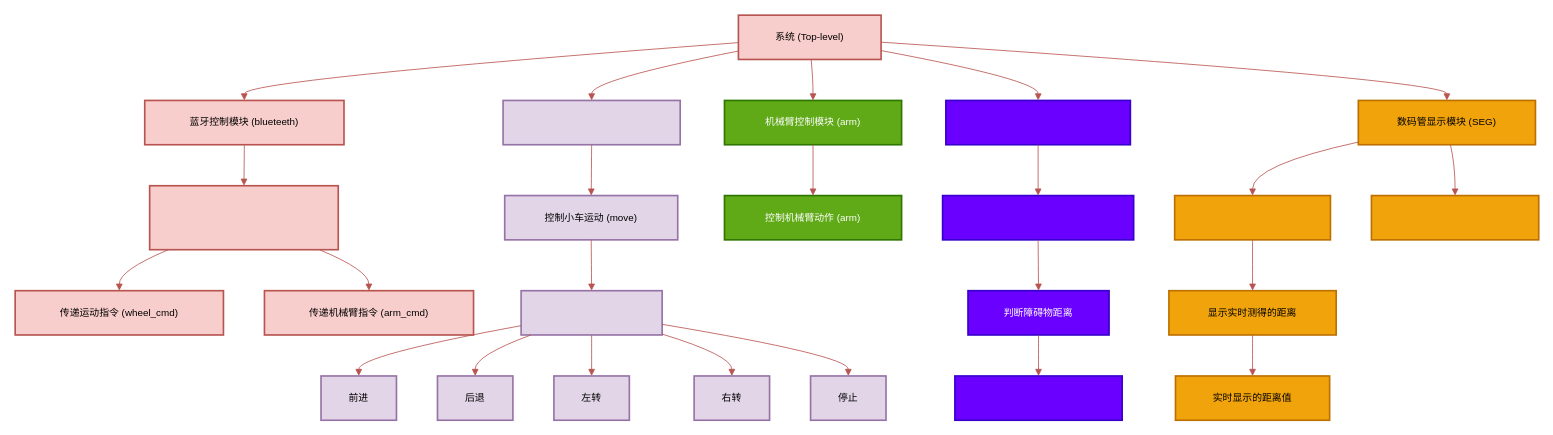
Image size: 1553x435. Some labels were removed from this diagram. Here are the shapes that lost their labels. From the top down, the centre of each, then its label:
[591,122]: 小车运动模块 (motor)
[1038,122]: 超声波测距模块 (sonic)
[243,217]: 解析蓝牙指令 (wheel_cmd, arm_cmd)
[1037,217]: 实时测量距离 (distance)
[1252,217]: 显示数据 (display)
[1454,217]: 更新数码管显示内容
[591,312]: 停止或继续运动
[1038,398]: 控制小车停止或继续
